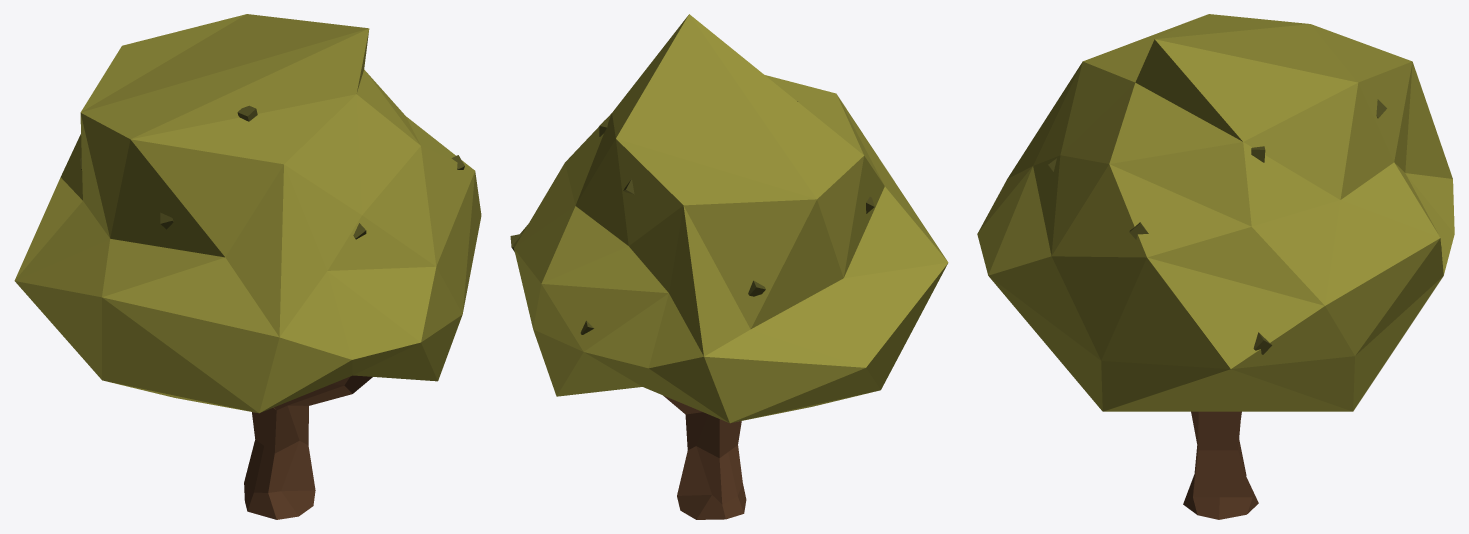
The model's file is Tree_26_Yellow.fbx.
3 renders of one model, left to right at view 1: azimuth 30°, elevation 25°; view 2: azimuth 150°, elevation 25°; view 3: azimuth 270°, elevation 25°, orthographic. The views are drawn at different scales.
Visible parts, largest first — view 1: Tree_26_Yellow_Part_1, Tree_26_Yellow_Part_2, Tree_26_Yellow_Part_3; view 2: Tree_26_Yellow_Part_1, Tree_26_Yellow_Part_2, Tree_26_Yellow_Part_3; view 3: Tree_26_Yellow_Part_1, Tree_26_Yellow_Part_2, Tree_26_Yellow_Part_3.
Part boxes in pixels (<box>): Tree_26_Yellow_Part_1: <box>14,14,481,413</box>; Tree_26_Yellow_Part_2: <box>244,375,372,519</box>; Tree_26_Yellow_Part_3: <box>80,105,464,239</box>; Tree_26_Yellow_Part_1: <box>513,14,948,423</box>; Tree_26_Yellow_Part_2: <box>663,395,746,519</box>; Tree_26_Yellow_Part_3: <box>510,101,874,334</box>; Tree_26_Yellow_Part_1: <box>977,14,1454,411</box>; Tree_26_Yellow_Part_2: <box>1183,411,1258,519</box>; Tree_26_Yellow_Part_3: <box>1048,99,1441,354</box>.
Bounding box in the file's own units: 717 × 789 × 692.
